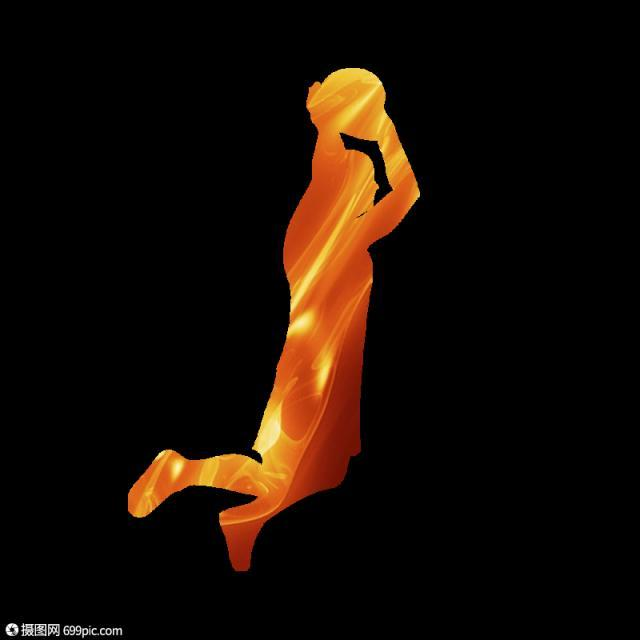rim: (319, 64, 388, 134)
